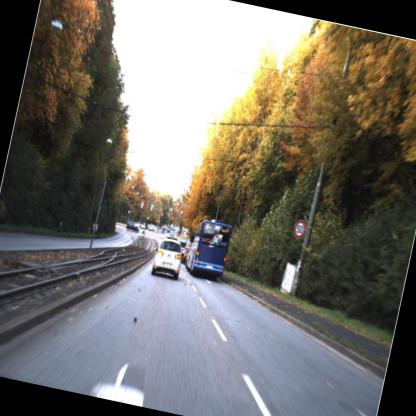prohibitory: (290, 218, 306, 240)
